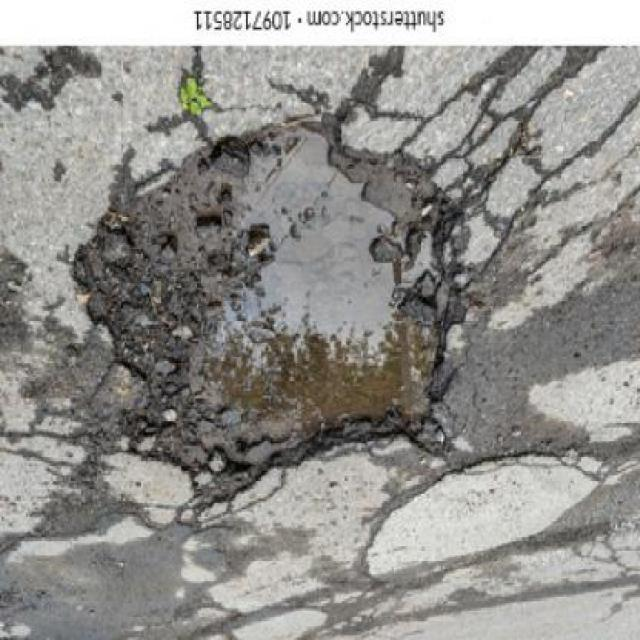Pothole: (68, 110, 468, 514)
